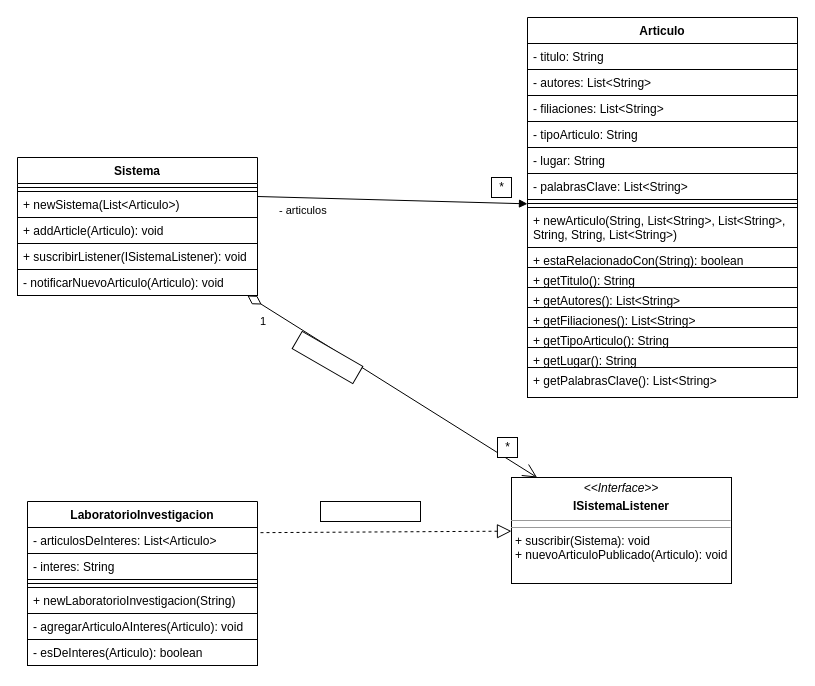
The diagram is 815 pixels wide and 686 high, and some of its shapes have lost their labels. The centre of each missing label's shape, as x and y in pixels:
"- listeners" belongs at point (327, 357).
"<<implements>>" belongs at point (370, 511).
